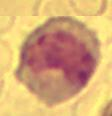monocyte: (13, 15, 103, 104)
